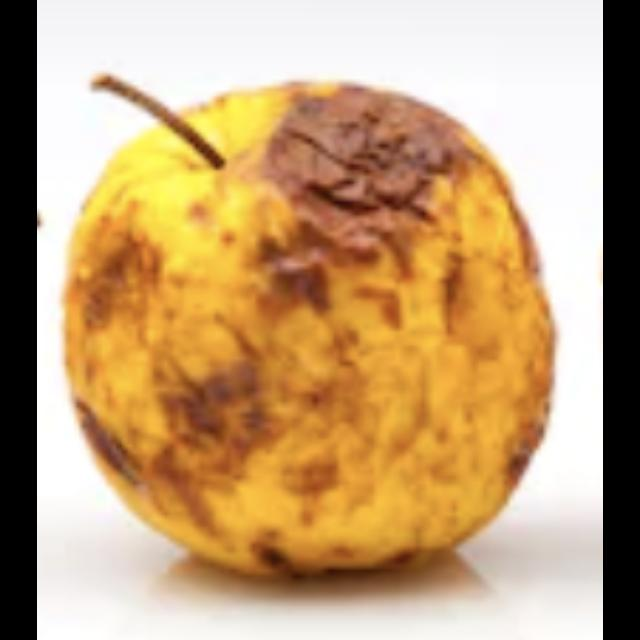Apel Tidak Segar: (54, 76, 569, 582)
